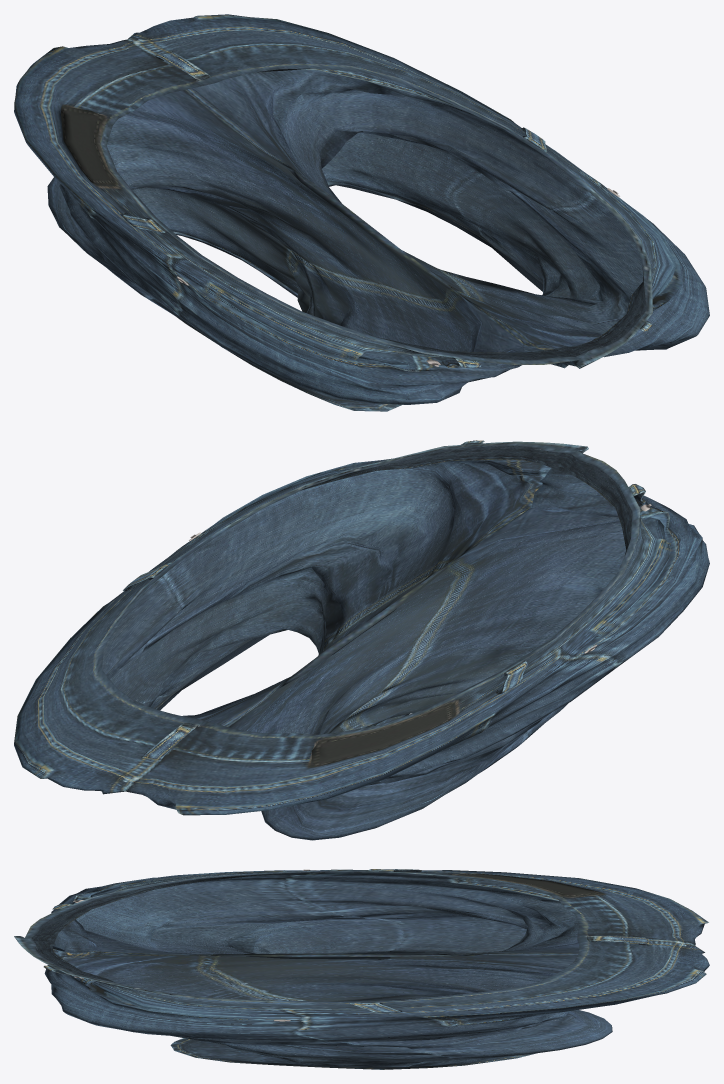
File: carlos_jeans_v2.glb
3 views of the same model, one above another, from view 1: azimuth 30°, elevation 25°; view 2: azimuth 150°, elevation 25°; view 3: azimuth 270°, elevation 25° (orthographic). The views are drawn at different scales.
Parts seen in each view (by area): view 1: Slim_Jeans.001; view 2: Slim_Jeans.001; view 3: Slim_Jeans.001.
Part boxes in pixels (x1,y1,x2,y2): Slim_Jeans.001: (14, 14, 709, 411); Slim_Jeans.001: (14, 440, 709, 840); Slim_Jeans.001: (14, 869, 709, 1069).
Size of the model in its own units: 0.4992 by 0.1132 by 0.9175.
Materials: 1 (1 with a texture image).
